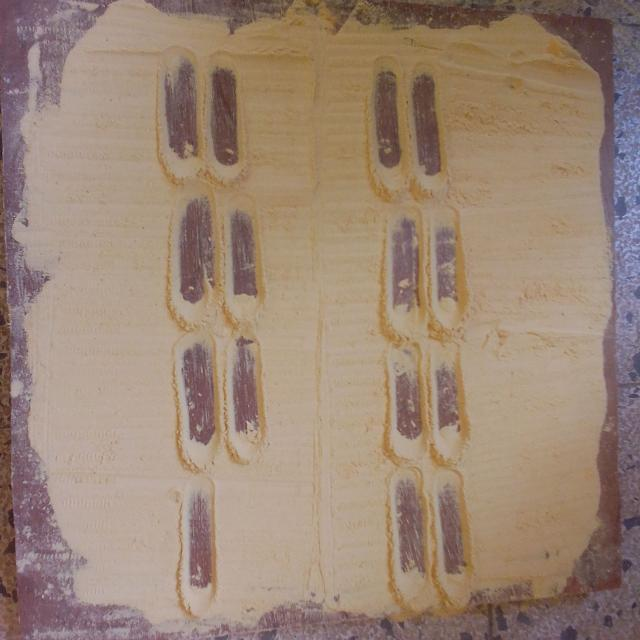double: (382, 472, 478, 578), (156, 54, 244, 164), (365, 65, 453, 175), (176, 196, 262, 306), (178, 342, 258, 448), (387, 216, 465, 312), (382, 365, 474, 438)
single: (176, 484, 224, 594)
